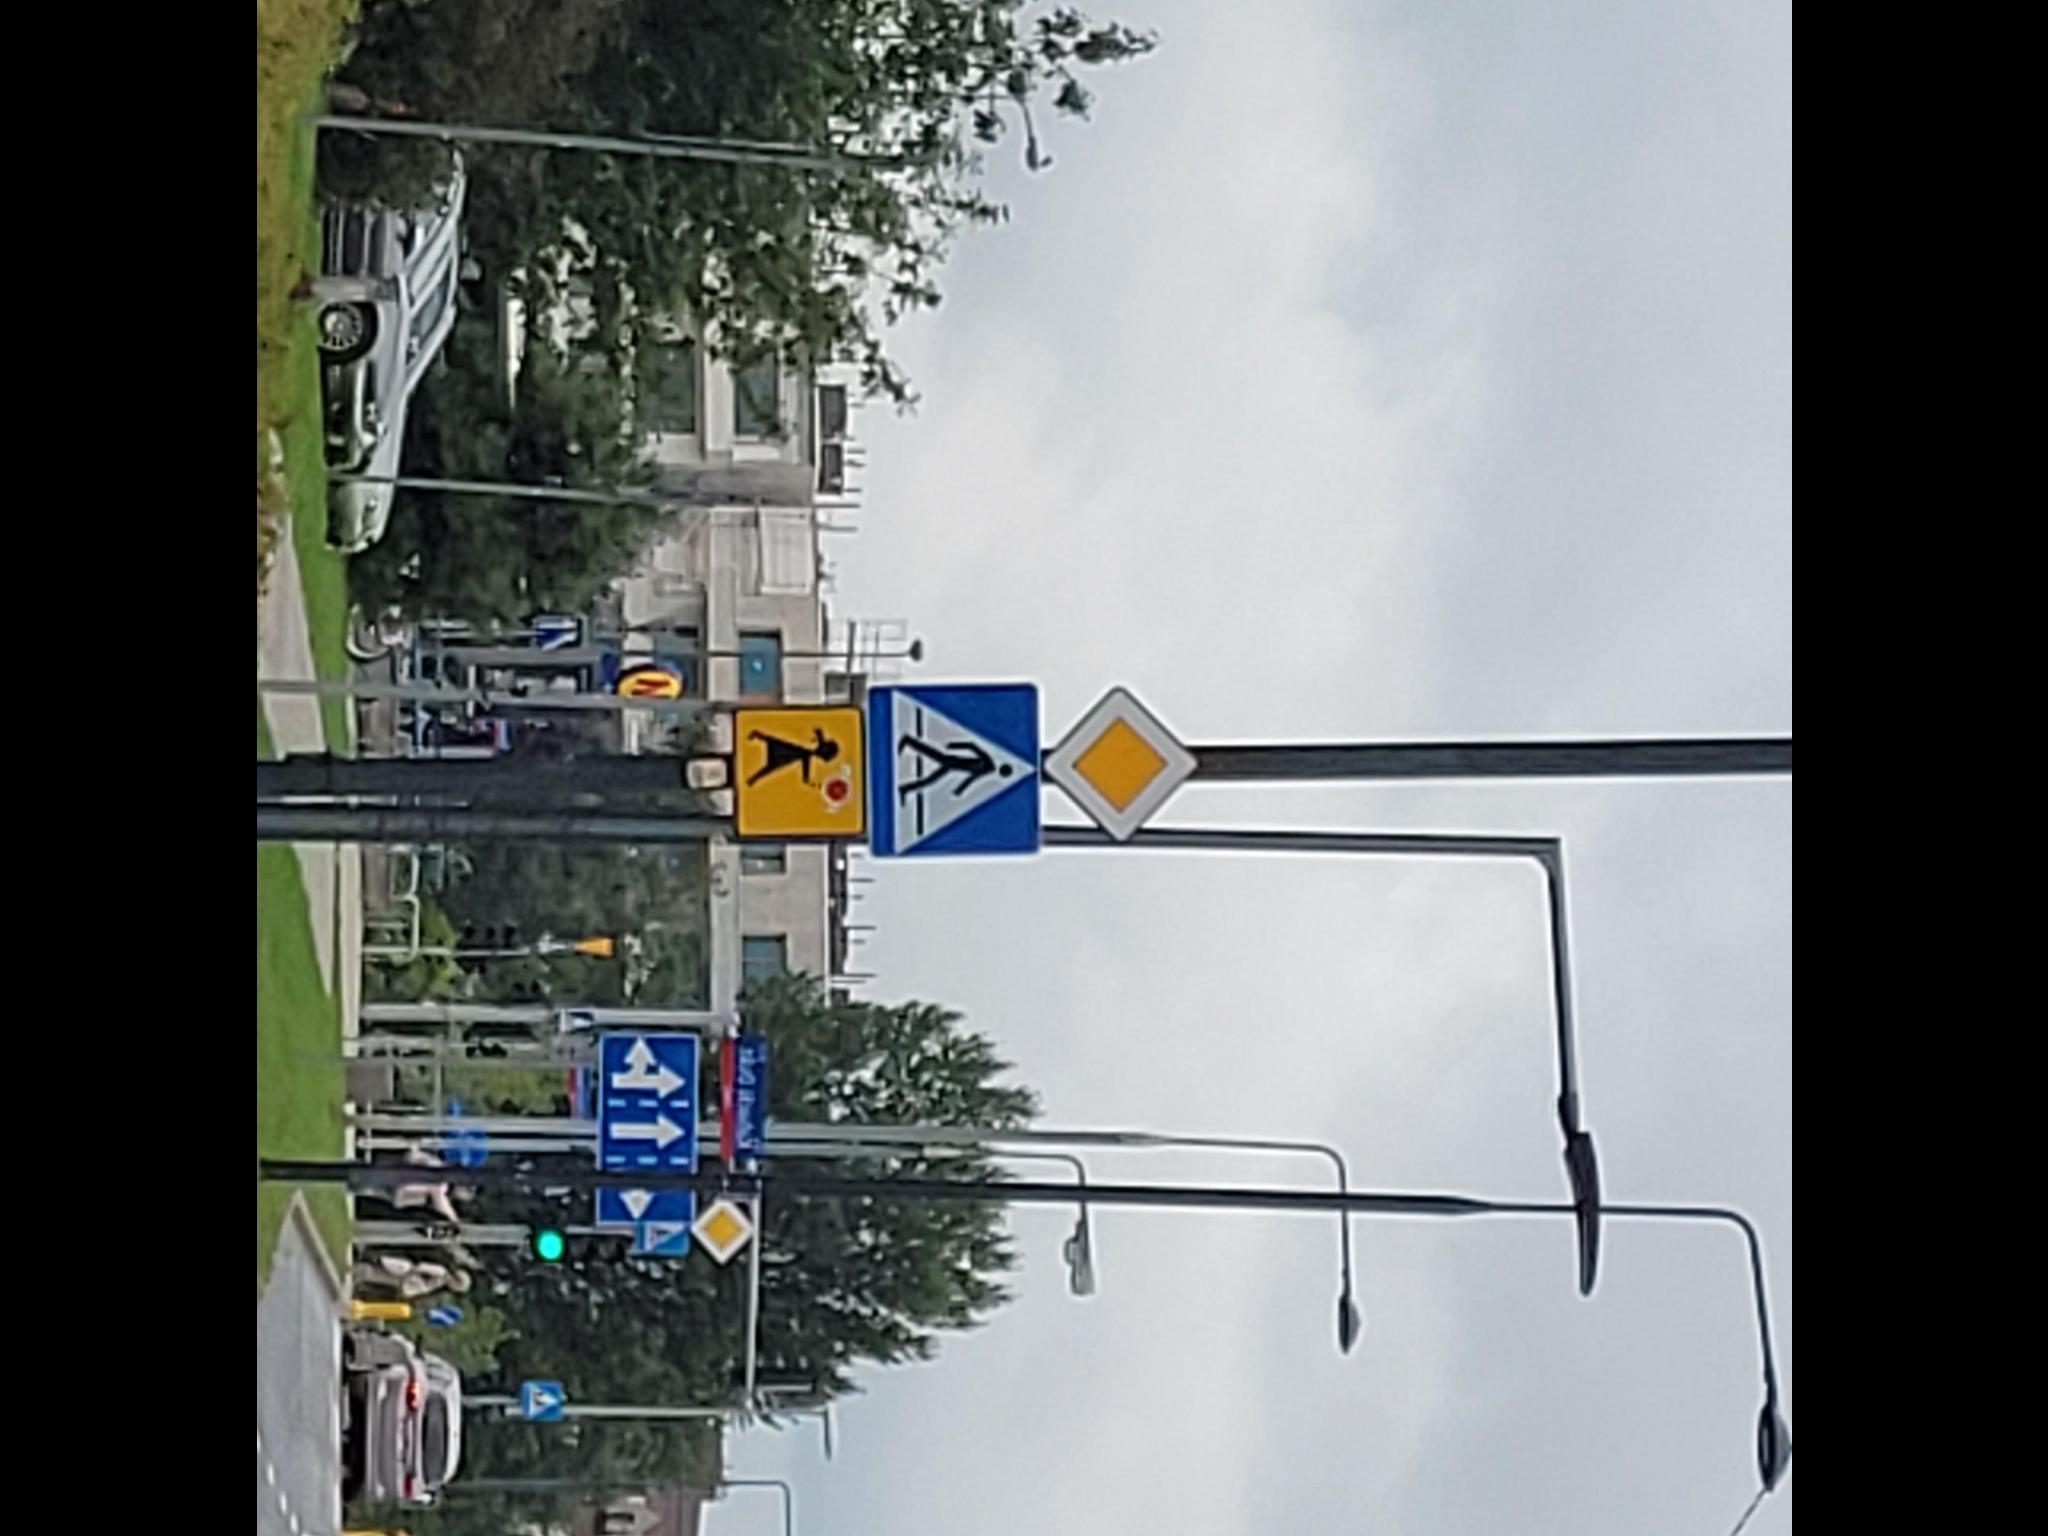information: (866, 679, 1037, 857), (1040, 684, 1201, 845), (692, 1199, 755, 1263), (522, 1381, 561, 1420), (640, 1221, 689, 1252)
mandatory: (423, 1304, 461, 1326)
other: (734, 707, 866, 837), (598, 1034, 695, 1171), (598, 1194, 695, 1225)
